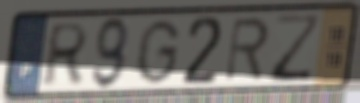2: (178, 14, 225, 87)
9: (90, 15, 133, 93)
G: (132, 17, 183, 87)
R: (38, 21, 91, 89), (223, 15, 272, 85)
Z: (269, 11, 324, 85)
